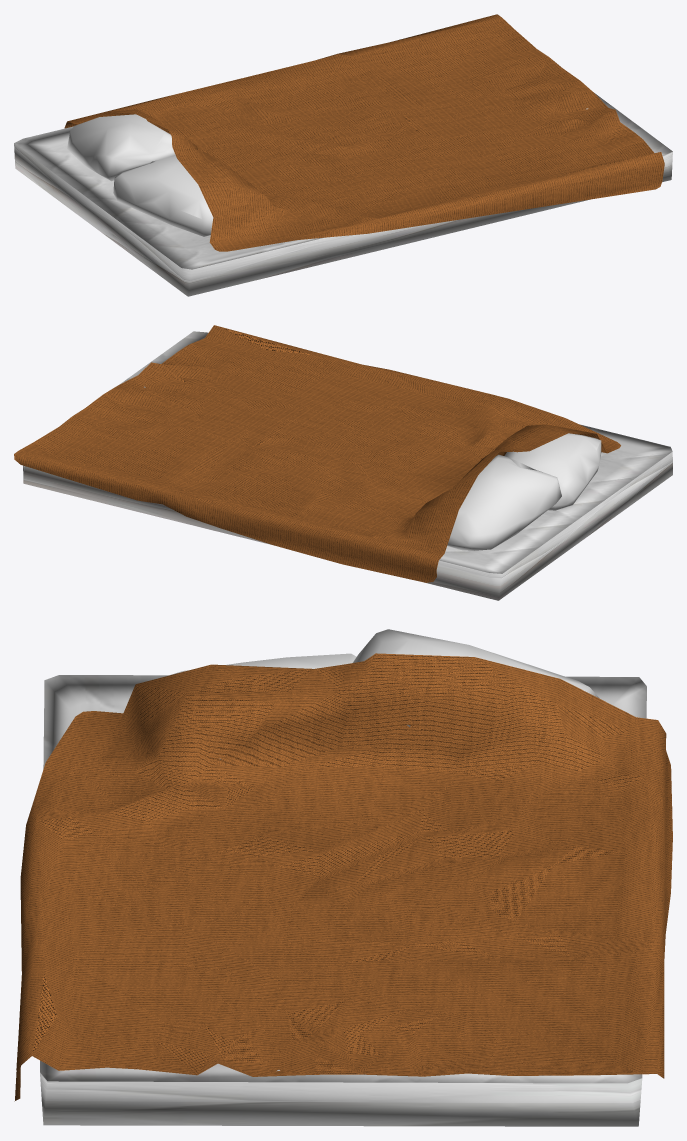
The model's file is bed.glb.
3 views of the same model, one above another, from view 1: azimuth 30°, elevation 25°; view 2: azimuth 150°, elevation 25°; view 3: azimuth 270°, elevation 25° (orthographic). The views are drawn at different scales.
Visible parts, largest first — view 1: Grid.008, mattres.008, pillow.008; view 2: Grid.008, mattres.008, pillow.008; view 3: Grid.008, mattres.008, pillow.008.
Boxes of the visible parts, <box> form: Grid.008: <box>64,14,664,251</box>; mattres.008: <box>14,92,672,296</box>; pillow.008: <box>67,114,213,236</box>; Grid.008: <box>14,325,620,582</box>; mattres.008: <box>23,331,672,600</box>; pillow.008: <box>447,433,601,550</box>; Grid.008: <box>14,653,672,1101</box>; mattres.008: <box>40,675,646,1126</box>; pillow.008: <box>166,629,599,759</box>.
Bounding box in the file's own units: 2.3 × 0.3506 × 1.57.
Materials: 3 (2 with a texture image).
